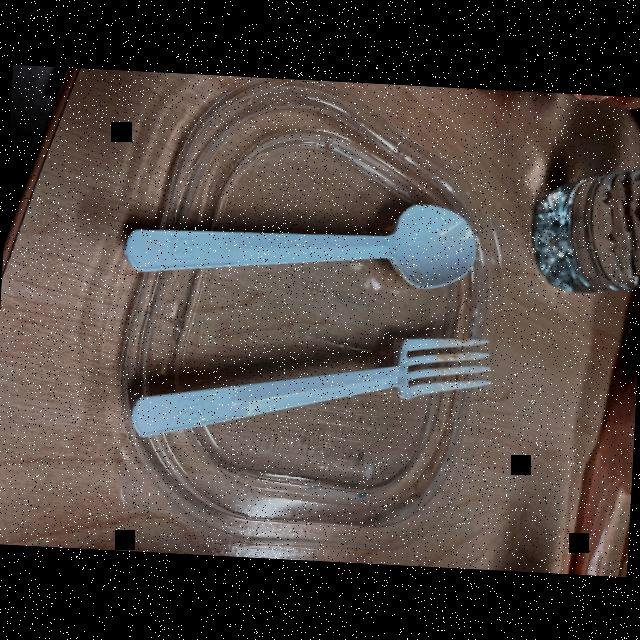plastic_spoon: (117, 307, 500, 462), (115, 181, 488, 325)
